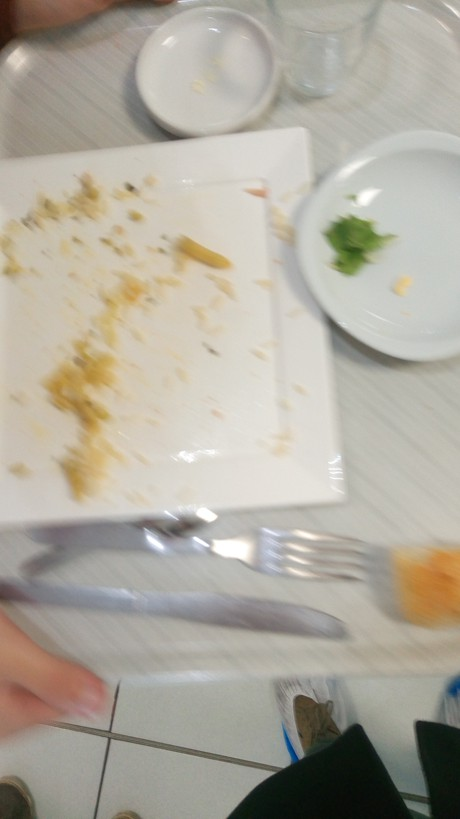orga: (324, 218, 394, 274)
